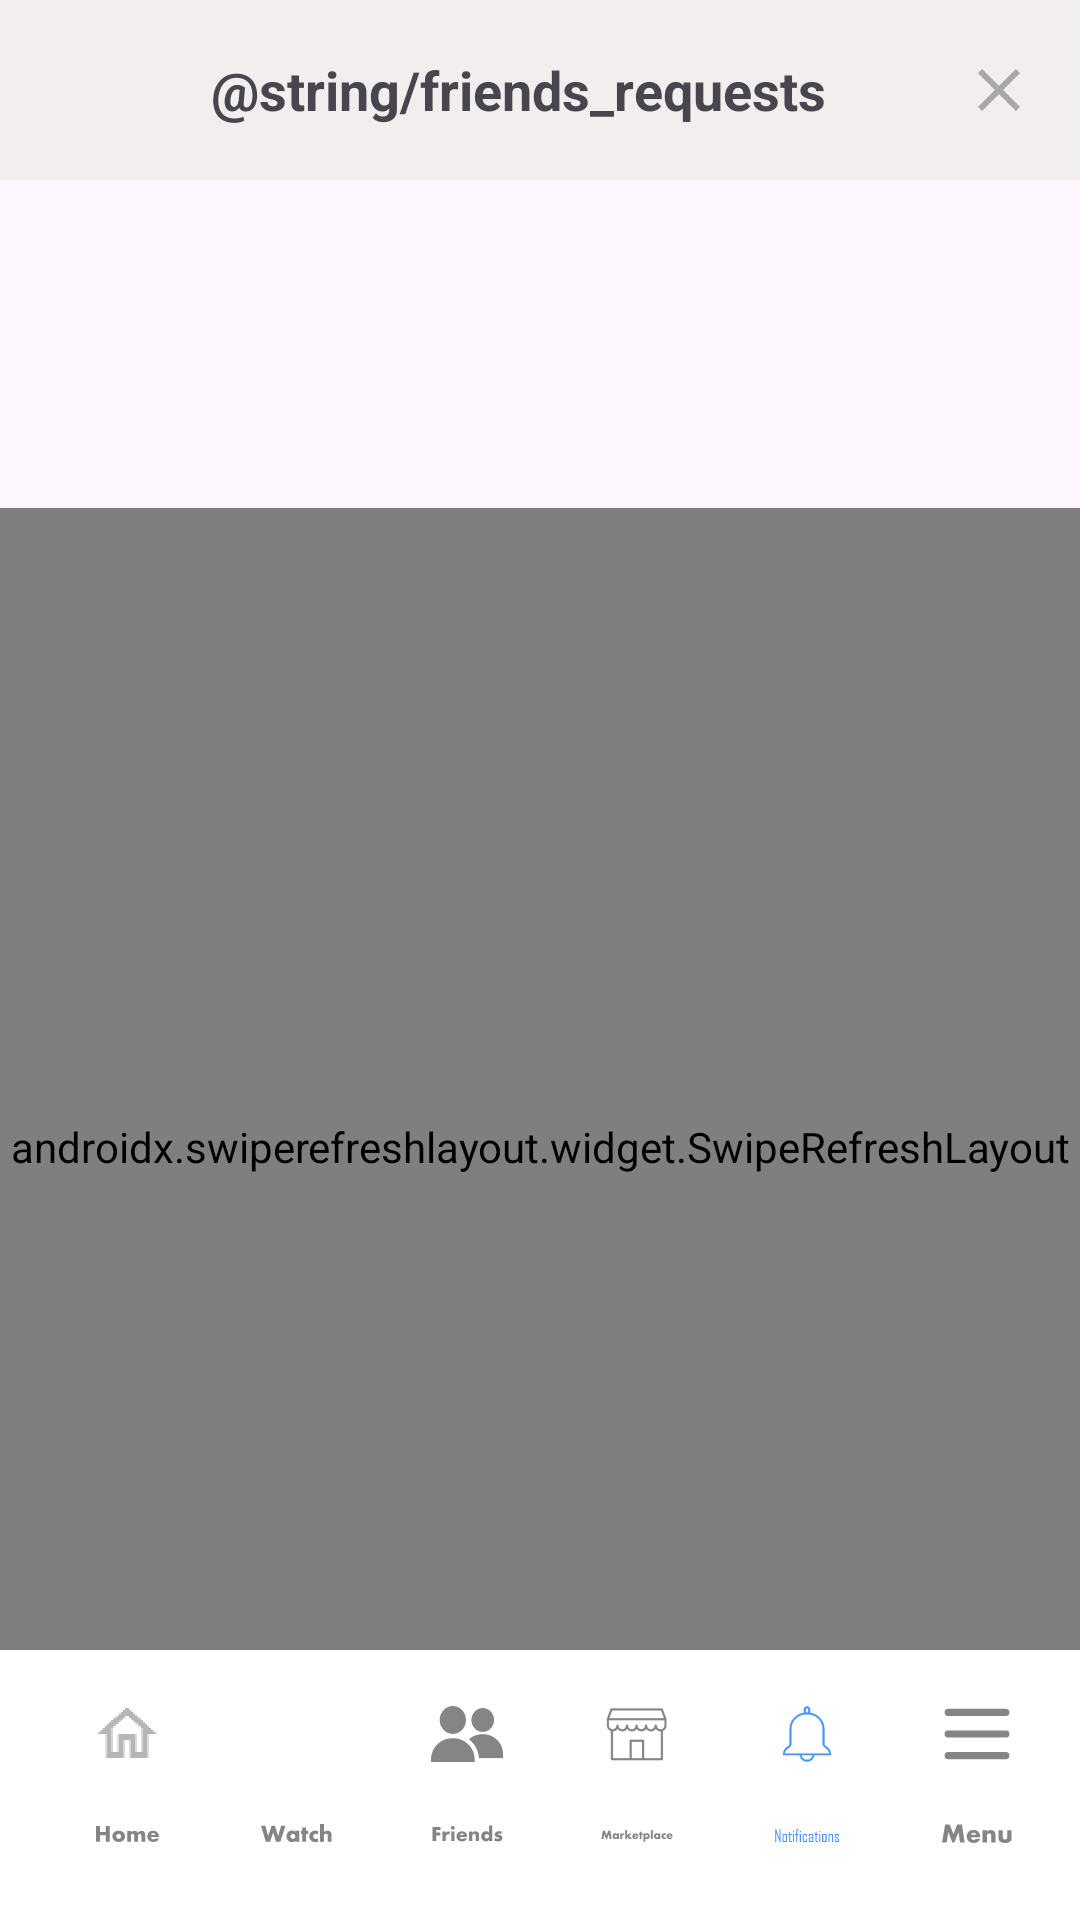

Icon click points for this 1080x1920 phone screenshot, format (x=x, y=y):
close tag: (x=999, y=90)
